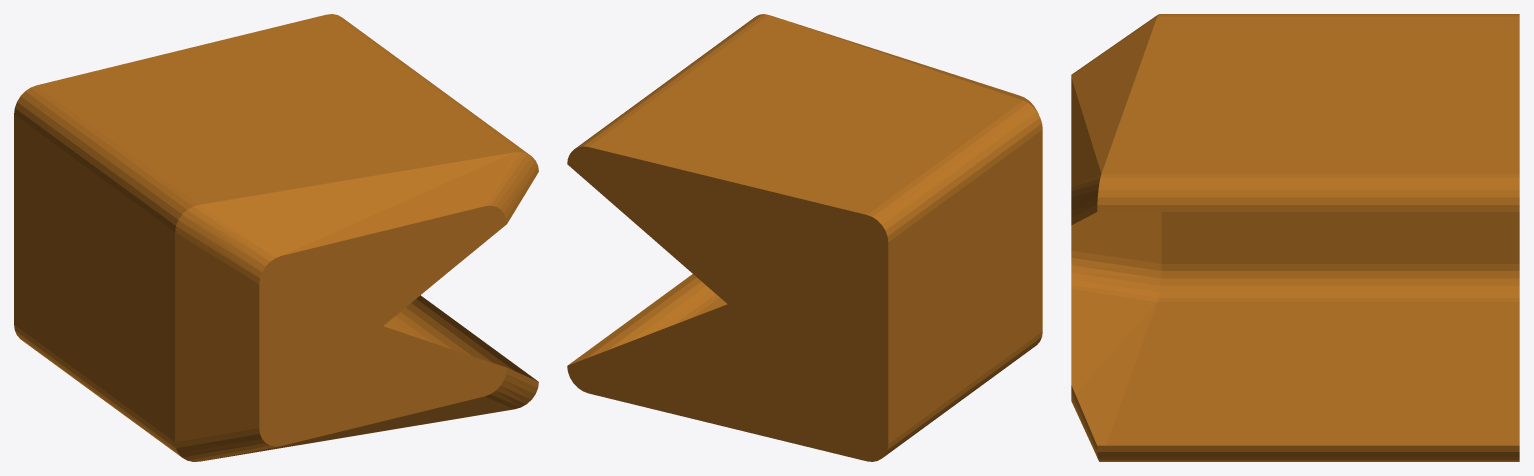
File: recorder_body.obj
3 views of the same model, side by side, from view 1: azimuth 30°, elevation 25°; view 2: azimuth 150°, elevation 25°; view 3: azimuth 270°, elevation 25° (orthographic). The views are drawn at different scales.
Parts seen in each view (by area): view 1: recorder_body; view 2: recorder_body; view 3: recorder_body.
Boxes of the visible parts, x1,y1,x2,y2 form: recorder_body: (14,14,538,461); recorder_body: (567,14,1042,461); recorder_body: (1071,14,1519,461).
Bounding box in the file's own units: 0.3 × 0.22 × 0.313.
